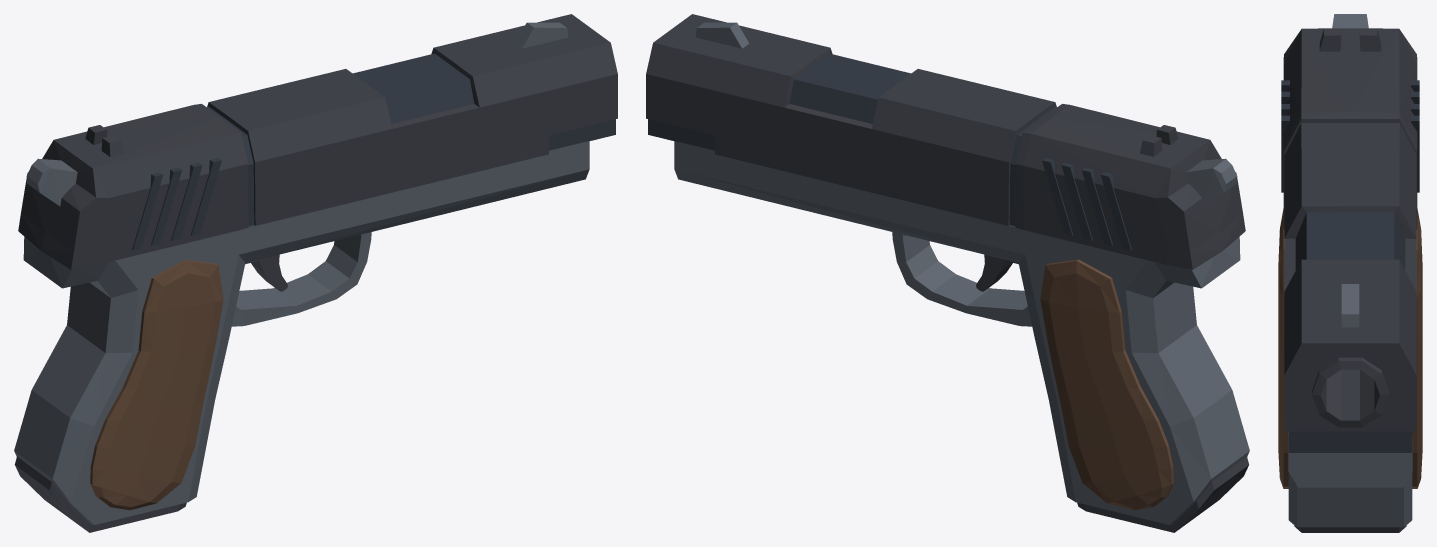
File: pistol.dae
3 views of the same model, side by side, from view 1: azimuth 30°, elevation 25°; view 2: azimuth 150°, elevation 25°; view 3: azimuth 270°, elevation 25° (orthographic). The views are drawn at different scales.
Parts seen in each view (by area): view 1: pistol; view 2: pistol; view 3: pistol.
Boxes of the visible parts, bbox=[...] form: pistol: bbox=[14, 14, 617, 532]; pistol: bbox=[646, 14, 1249, 532]; pistol: bbox=[1278, 14, 1422, 532].
Size of the model in its own units: 0.2 by 0.0356 by 0.1277.
